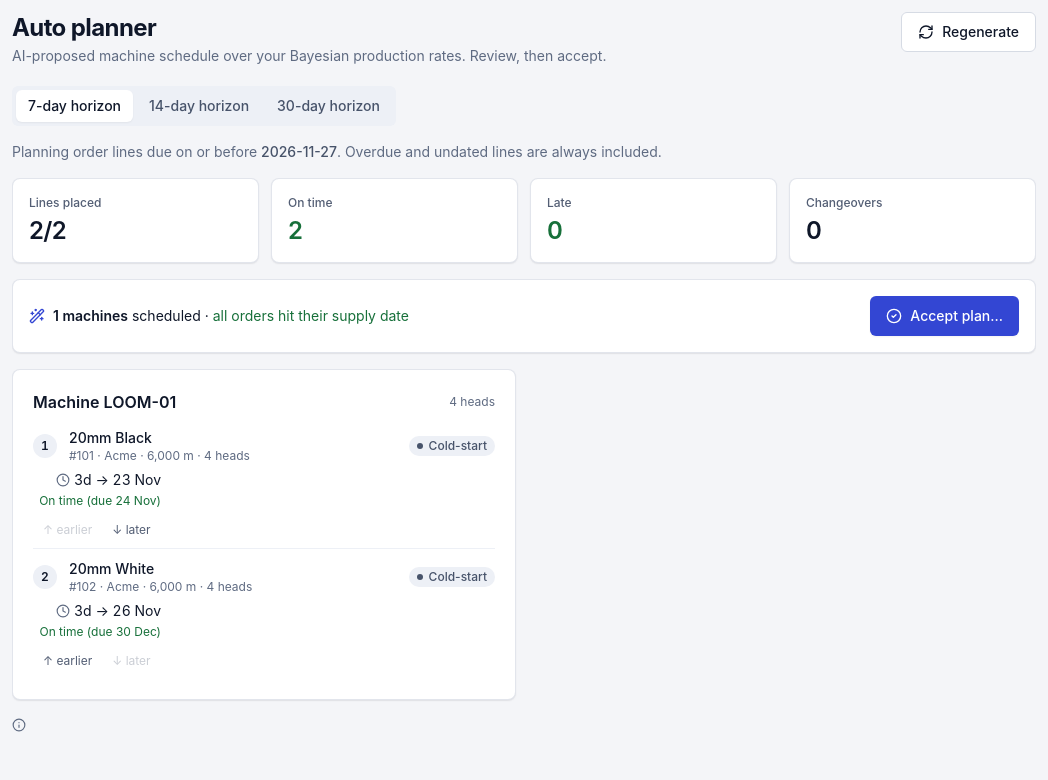
moving a line on the plan › asks the server what the new arrangement comes to, and shows it
The width and height of the screenshot is (1048, 780).
Check: the text "Late 2d" is not shown
Click the button with aria-label "Move 20mm Black later" at x=132, y=530, box [106, 520, 157, 540]
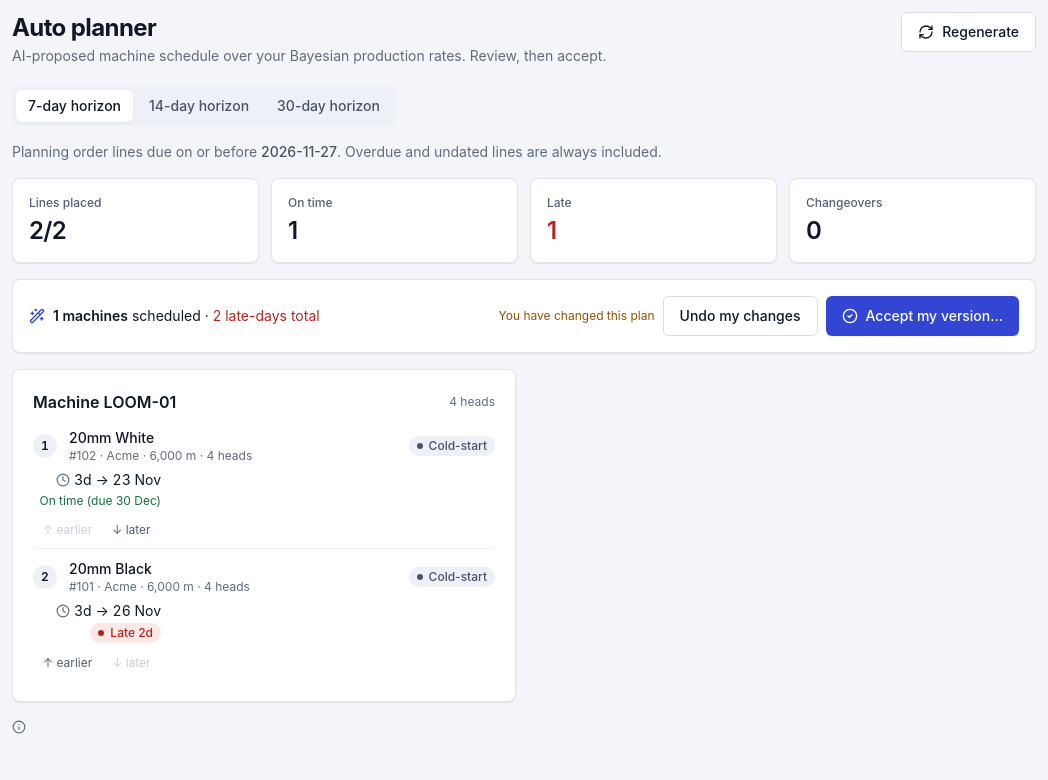
Check: the text "Late 2d" is shown, box [110, 624, 153, 640]
Check: the text "2 late-days total" is shown, box [213, 306, 320, 324]
Check: the text "all orders hit their supply date" is gone
